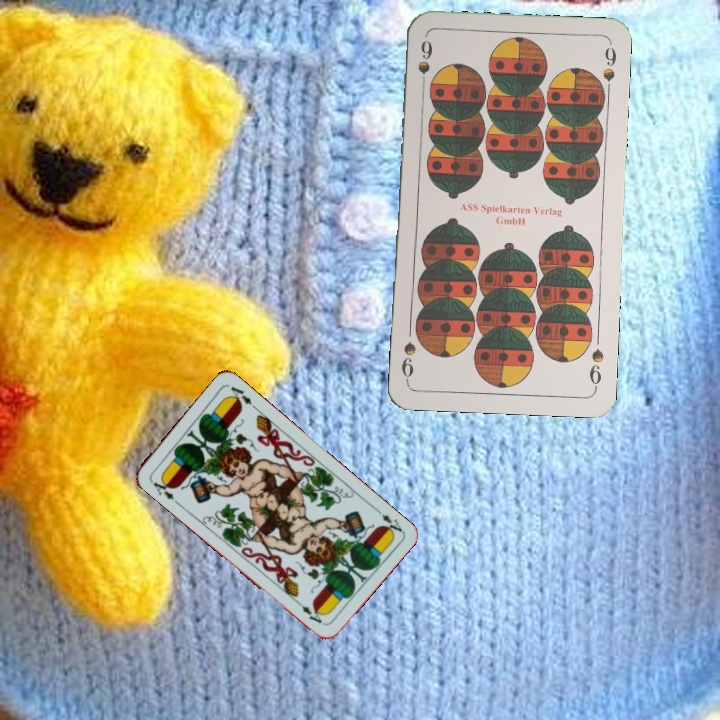EA: (147, 474, 177, 503), (378, 510, 405, 538)
S9: (414, 36, 435, 94), (585, 344, 607, 391)
